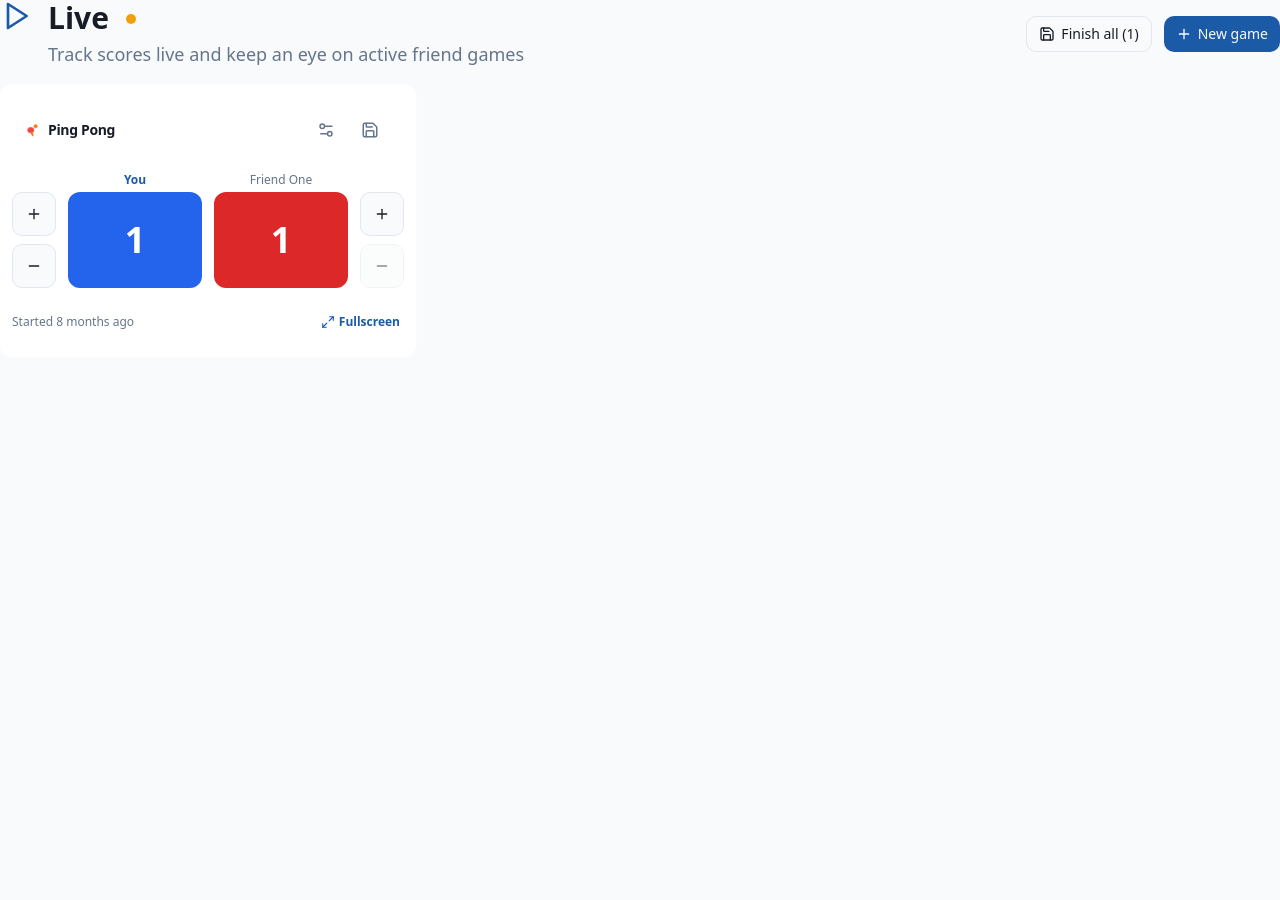
Test: LiveScoreTracker perspective labels › winning streaks › lets the streak winner taunt their opponent once a second rack in a row is won
Click the button named "Score for You: 1" at (135, 240), box [68,192,202,288]
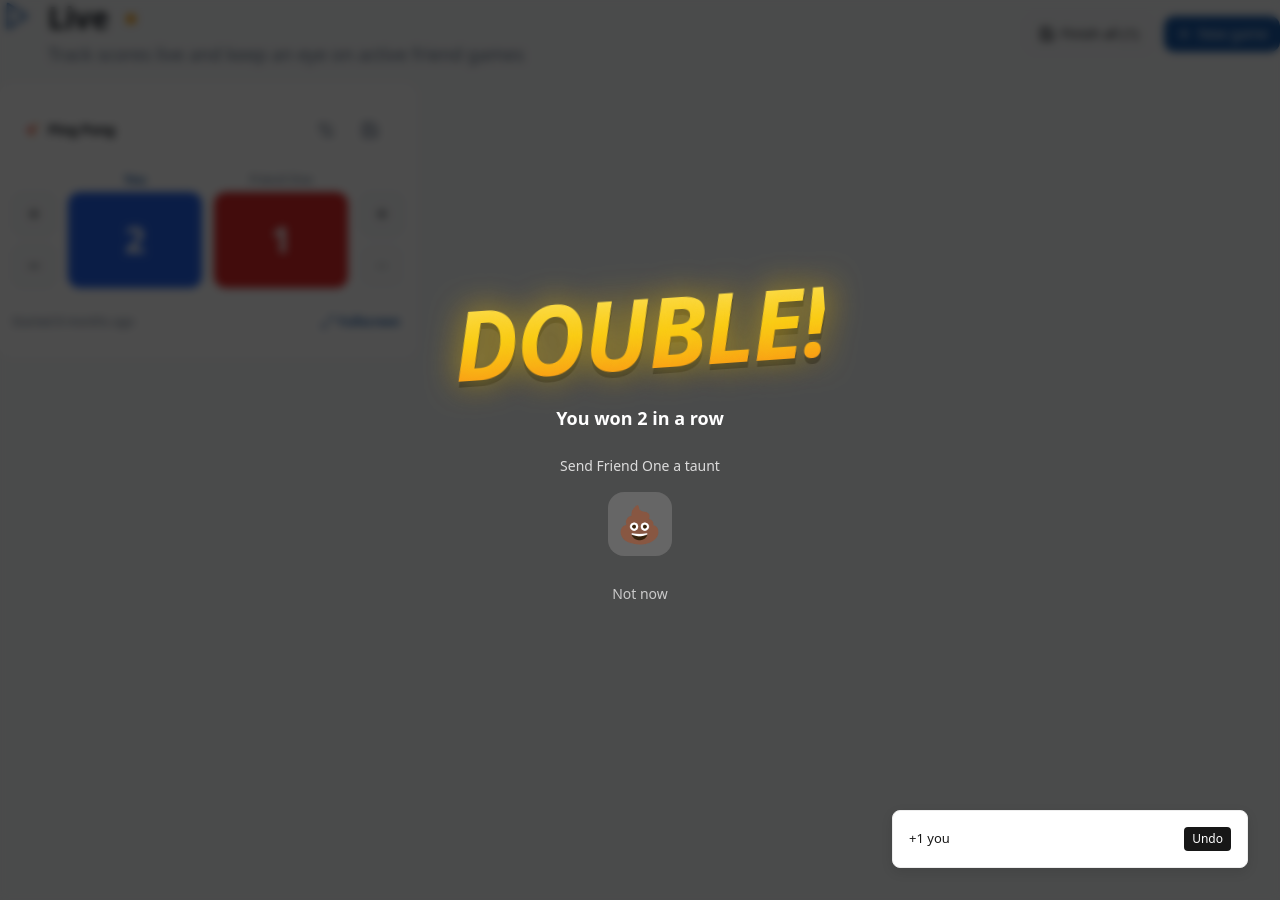
Expected: the dialog "Double! You won 2 in a row" is shown
Click the button named "Send 💩" at (640, 524), box [608,492,672,556]
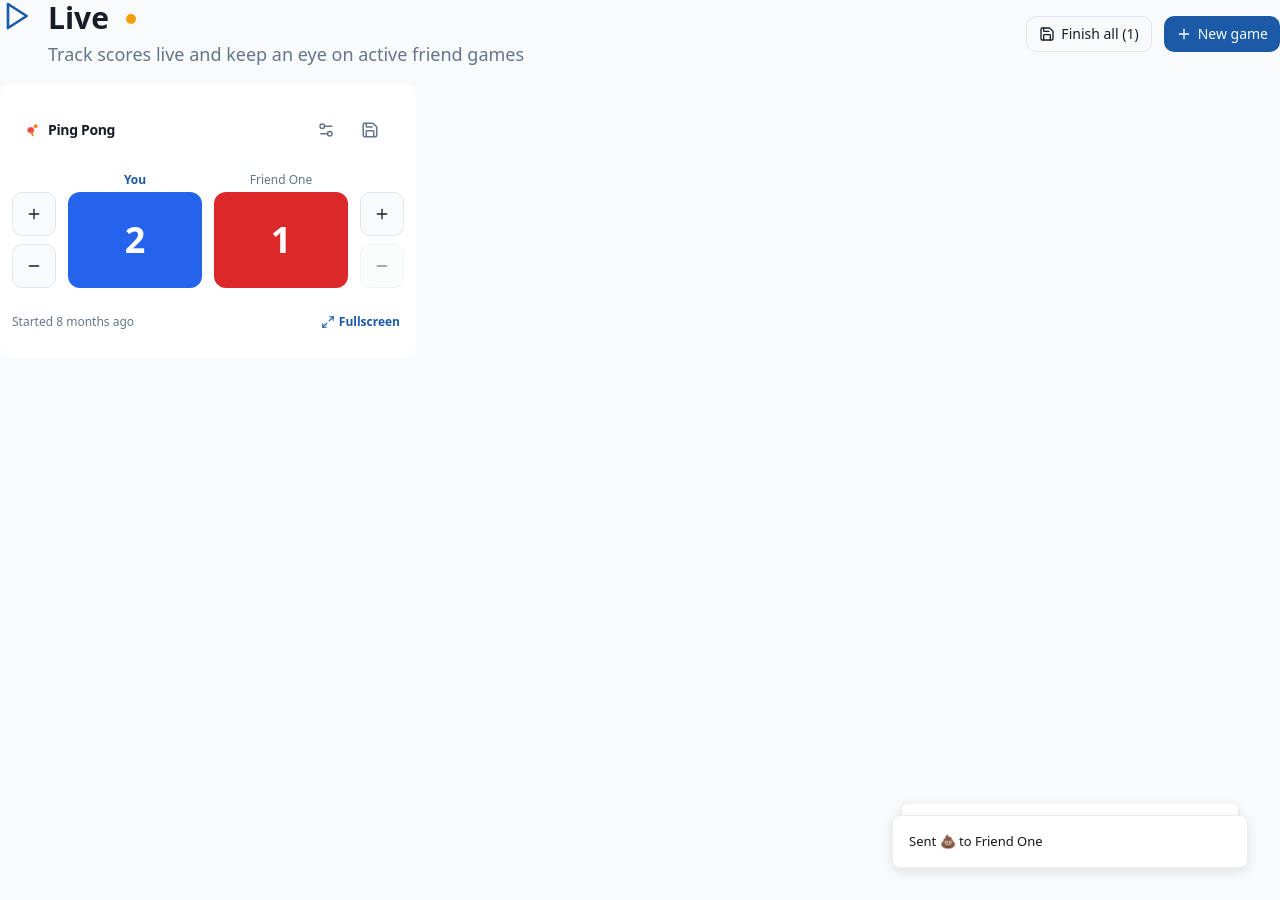
Expected: the text "Double!" is gone
